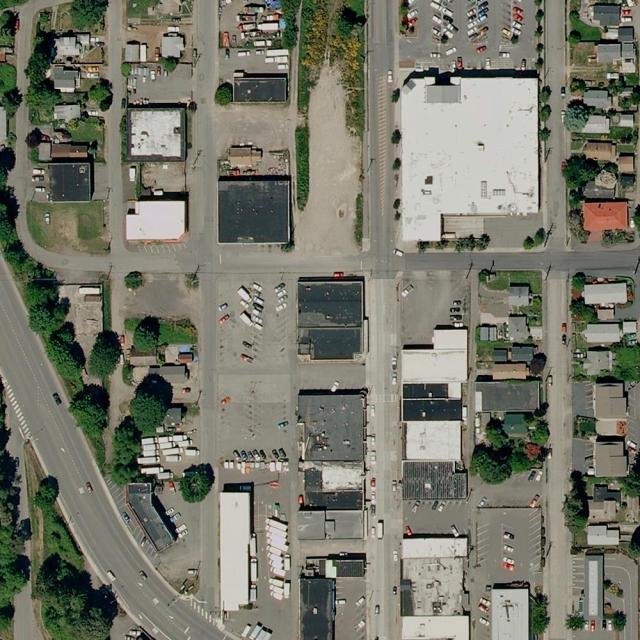building: (400, 70, 540, 241)
